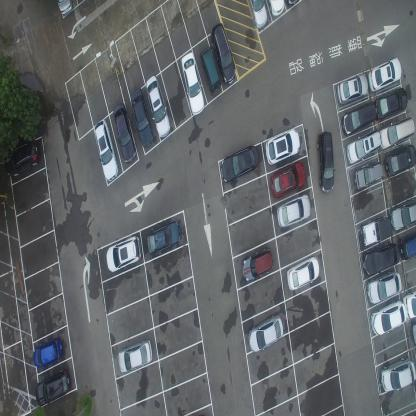car: (92, 116, 118, 182), (143, 74, 170, 137), (210, 21, 236, 85), (180, 50, 205, 114), (3, 135, 40, 178), (111, 100, 136, 163), (128, 87, 153, 148), (220, 144, 258, 184), (247, 313, 284, 354), (106, 233, 142, 274), (270, 159, 306, 200), (265, 126, 301, 166), (146, 218, 182, 256), (341, 99, 377, 137), (35, 366, 69, 406), (276, 193, 312, 230), (380, 355, 415, 393), (371, 300, 407, 336), (362, 242, 400, 276), (118, 338, 153, 374), (379, 116, 415, 151), (368, 56, 402, 93), (316, 129, 335, 195), (373, 86, 408, 121), (345, 130, 380, 165), (286, 256, 320, 292), (366, 272, 402, 305), (242, 246, 274, 283), (199, 46, 222, 96), (336, 72, 368, 106), (384, 145, 416, 176), (360, 216, 392, 247), (33, 334, 63, 367), (353, 160, 383, 190), (390, 198, 416, 231), (249, 0, 268, 30), (398, 232, 416, 260), (403, 289, 415, 319), (56, 0, 73, 17), (267, 0, 284, 17)
